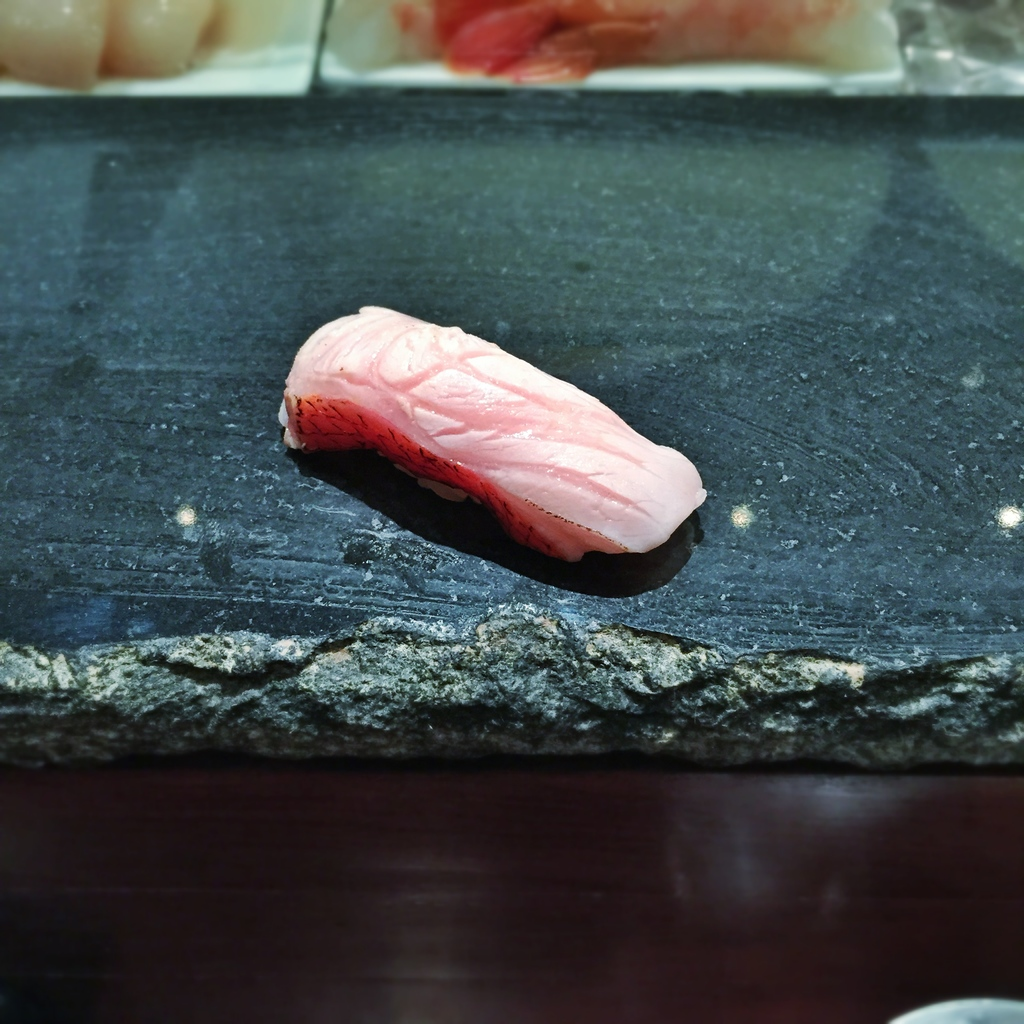sushi: (284, 318, 716, 564)
